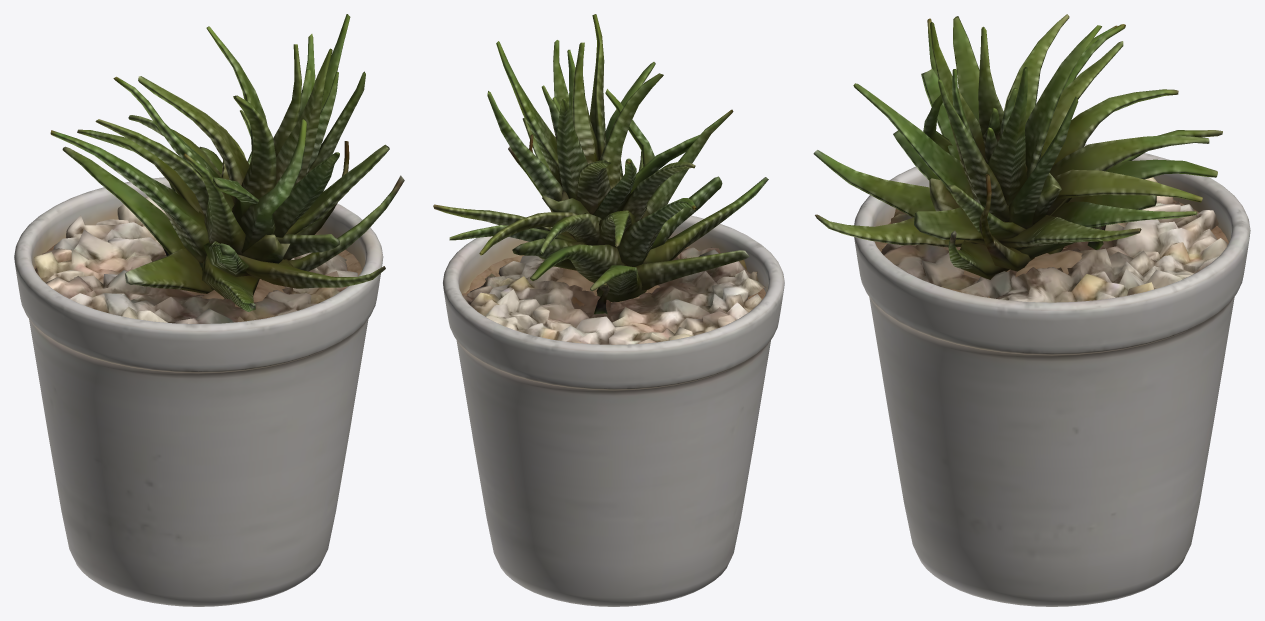
Rendered from potted-plant.glb.
The picture shows the model from 3 angles, left to right: view 1: azimuth 30°, elevation 25°; view 2: azimuth 150°, elevation 25°; view 3: azimuth 270°, elevation 25°; orthographic projection. The views are drawn at different scales.
Parts seen in each view (by area): view 1: potted_plant_04_pot, potted_plant_04_plant, potted_plant_04_ground, potted_plant_04_dirt; view 2: potted_plant_04_pot, potted_plant_04_plant, potted_plant_04_ground, potted_plant_04_dirt; view 3: potted_plant_04_pot, potted_plant_04_plant, potted_plant_04_ground, potted_plant_04_dirt.
Boxes of the visible parts, bbox=[...] form: potted_plant_04_pot: bbox=[14, 177, 383, 606]; potted_plant_04_plant: bbox=[50, 14, 404, 311]; potted_plant_04_ground: bbox=[34, 196, 357, 323]; potted_plant_04_dirt: bbox=[34, 238, 362, 307]; potted_plant_04_pot: bbox=[443, 215, 784, 606]; potted_plant_04_plant: bbox=[433, 14, 768, 314]; potted_plant_04_ground: bbox=[463, 247, 765, 344]; potted_plant_04_dirt: bbox=[462, 247, 765, 306]; potted_plant_04_pot: bbox=[854, 144, 1250, 606]; potted_plant_04_plant: bbox=[813, 14, 1222, 279]; potted_plant_04_ground: bbox=[881, 177, 1227, 302]; potted_plant_04_dirt: bbox=[875, 200, 1228, 297].
Bounding box in the file's own units: 0.1679 × 0.2675 × 0.1848.
Materials: 1 (1 with a texture image).
